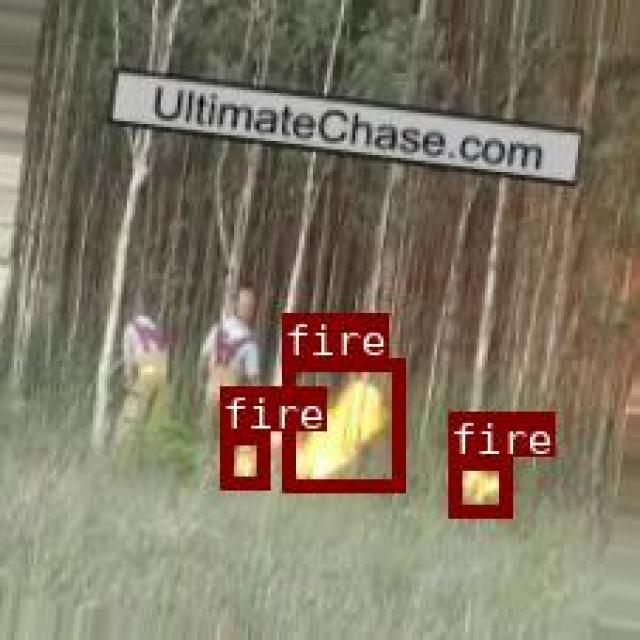fire: (280, 355, 401, 488), (448, 454, 508, 514), (219, 431, 265, 486)
